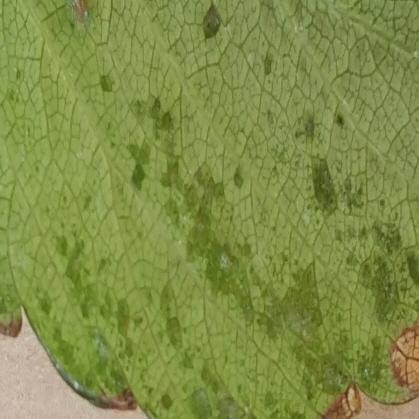Angular Leafspot: (0, 0, 418, 418)
